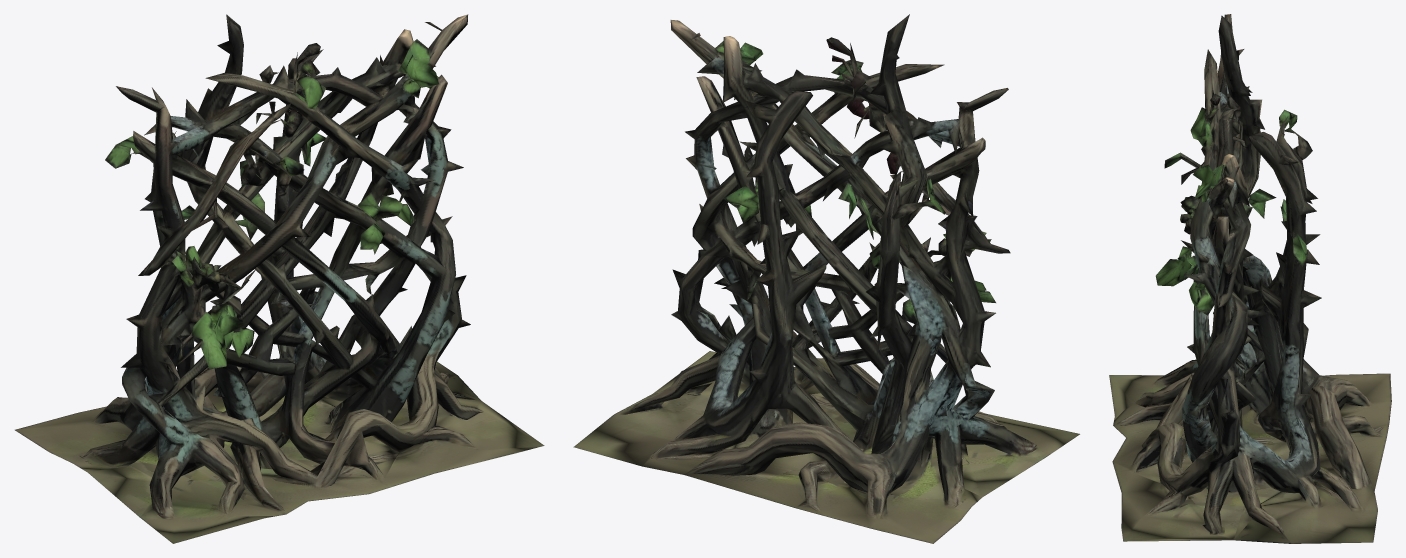
Rendered from mesh_briar_wall_a.glb.
3 renders of one model, left to right at view 1: azimuth 30°, elevation 25°; view 2: azimuth 150°, elevation 25°; view 3: azimuth 270°, elevation 25°, orthographic. The views are drawn at different scales.
Visible parts, largest first — view 1: mesh_briar_wall_a__Mesh_0; view 2: mesh_briar_wall_a__Mesh_0; view 3: mesh_briar_wall_a__Mesh_0.
Boxes of the visible parts, x1=… form: mesh_briar_wall_a__Mesh_0: x1=15, y1=14, x2=544, y2=543; mesh_briar_wall_a__Mesh_0: x1=573, y1=14, x2=1079, y2=543; mesh_briar_wall_a__Mesh_0: x1=1109, y1=14, x2=1391, y2=543.
Bounding box in the file's own units: 7.99 × 9 × 5.6.
Materials: 1 (1 with a texture image).
